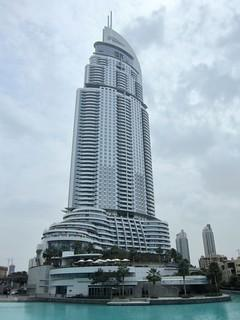building: (38, 8, 188, 299)
